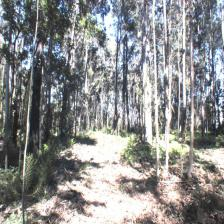trunktrack_idkeyframe: (28, 81, 42, 153), (188, 101, 195, 176), (156, 118, 160, 175)
